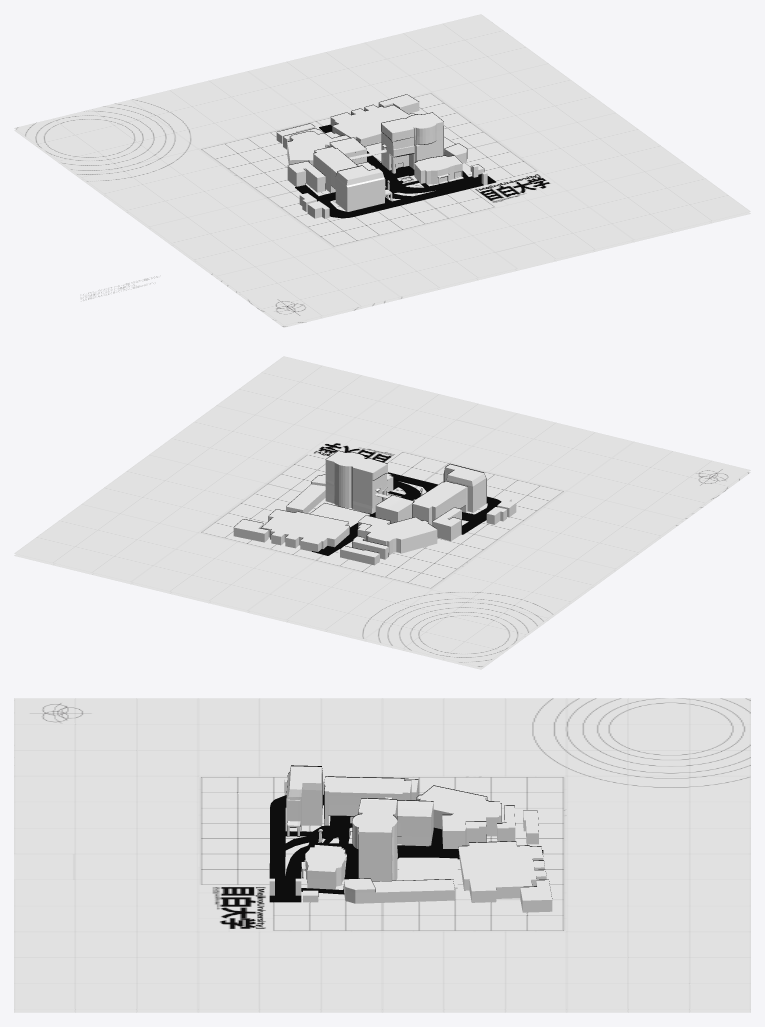
Rendered from T_WEB_MejiroUni_MatMap.glb.
3 views of the same model, one above another, from view 1: azimuth 30°, elevation 25°; view 2: azimuth 150°, elevation 25°; view 3: azimuth 270°, elevation 25° (orthographic). The views are drawn at different scales.
Visible parts, largest first — view 1: Plane, Ent, Road, Plane.001; view 2: Plane, Ent, Plane.001, Road; view 3: Plane, Ent, Road, Plane.001.
Boxes of the visible parts, x1,y1,x2,y2 form: Plane: (14,14,750,325); Ent: (276,94,487,218); Road: (295,124,495,218); Plane.001: (14,130,750,327); Plane: (14,356,750,667); Ent: (233,450,516,565); Plane.001: (14,472,750,669); Road: (312,472,501,555); Plane: (14,698,750,1009); Ent: (269,765,552,912); Road: (269,794,543,902); Plane.001: (14,1009,750,1012).
Size of what is drawn, in the model's own units: 748 by 135 by 652.
Materials: 5 (1 with a texture image).
